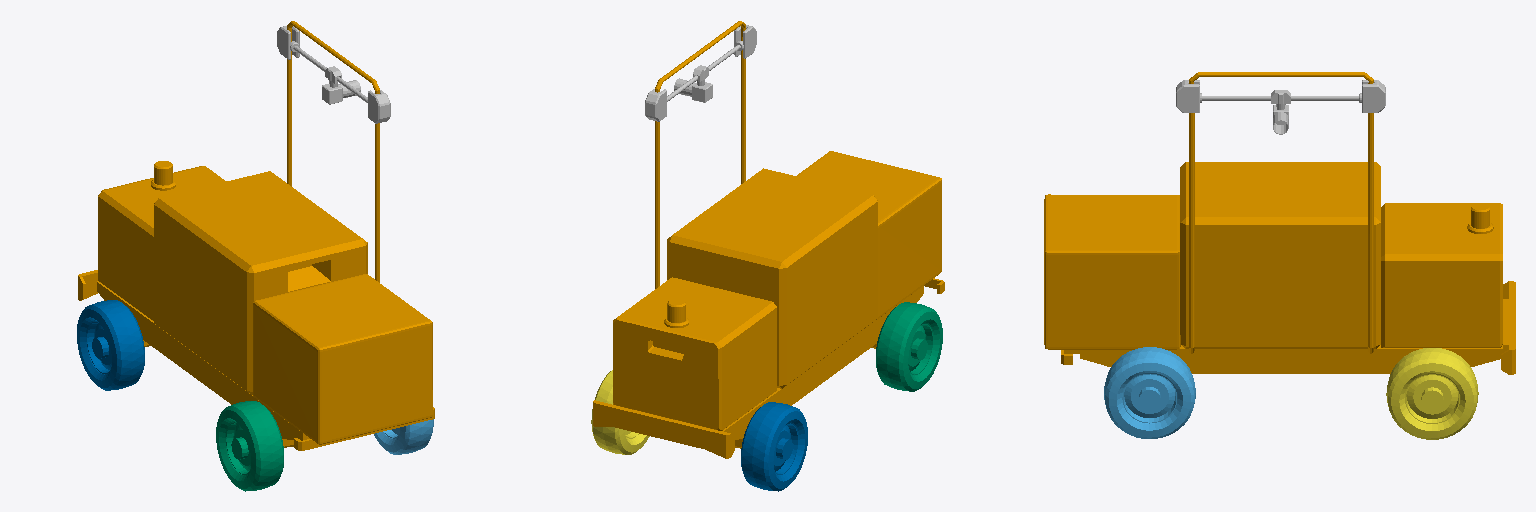
The robot description file, URDF, robot "apple_kraken":
<?xml version="1.0" ?>
<!-- =================================================================================== -->
<!-- |    This document was autogenerated by xacro from [local-path]/ros2_ws/src/apple_kraken_description/urdf/apple_kraken.xacro | -->
<!-- |    EDITING THIS FILE BY HAND IS NOT RECOMMENDED                                 | -->
<!-- =================================================================================== -->
<robot name="apple_kraken">
  <!-- RVIZ MATERIAL COLOUR -->
  <material name="darkgrey">
    <color rgba="0.25 0.25 0.25 0.8"/>
  </material>
  <material name="lightgrey">
    <color rgba="0.8 0.8 0.8 1.0"/>
  </material>
  <!-- ROBOT DEFINITION -->
  <!-- Including base_footprint here will make it easier to integrate with navigation stack -->

  <link name="base_link">
    <inertial>
      <origin rpy="0 0 0" xyz="0.001190 -0.123937 0.989950"/>
      <!-- TODO: Update mass as volume from Meshlab will overestimate the mass -->
      <mass value="300"/>
      <inertia ixx="240.0" ixy="0.0" ixz="0.0" iyy="50.0" iyz="0.0" izz="250.0"/>
    </inertial>
    <visual>
      <origin rpy="0 0 0" xyz="0 0 0"/>
      <geometry>
        <mesh filename="package://meshes/Chasis.dae" scale="1 1 1"/>
      </geometry>
    </visual>
    <collision>
      <origin rpy="0 0 0" xyz="0 0 1"/>
      <geometry>
        <box size="1 1 1"/>
      </geometry>
    </collision>
  </link>
  <link name="wheel_rear_right_link">
    <inertial>
      <origin rpy="0 0 0" xyz="0.039106 0.0 -0.000376"/>
      <mass value="24.5"/>
      <inertia ixx="1.309" ixy="0.0" ixz="0.0" iyy="0.787" iyz="0.0" izz="0.787"/>
    </inertial>
    <visual>
      <origin rpy="0 0 0" xyz="0 0 0"/>
      <geometry>
        <mesh filename="package://meshes/WheelRight.dae" scale="1 1 1"/>
      </geometry>
    </visual>
    <collision>
      <origin rpy="0 0 0" xyz="0 0 0"/>
      <geometry>
        <mesh filename="package://meshes/WheelRight.dae" scale="1 1 1"/>
      </geometry>
    </collision>
  </link>
  <link name="wheel_rear_left_link">
    <inertial>
      <origin rpy="0 0 0" xyz="-0.039106 0.0 -0.000376"/>
      <mass value="24.5"/>
      <inertia ixx="1.309" ixy="0.0" ixz="0.0" iyy="0.787" iyz="0.0" izz="0.787"/>
    </inertial>
    <visual>
      <origin rpy="0 0 0" xyz="0 0 0"/>
      <geometry>
        <mesh filename="package://meshes/WheelLeft.dae" scale="1 1 1"/>
      </geometry>
    </visual>
    <collision>
      <origin rpy="0 0 0" xyz="0 0 0"/>
      <geometry>
        <mesh filename="package://meshes/WheelLeft.dae" scale="1 1 1"/>
      </geometry>
    </collision>
  </link>
  <link name="wheel_front_right_link">
    <inertial>
      <origin rpy="0 0 0" xyz="0.039106 0.0 -0.000376"/>
      <mass value="24.5"/>
      <inertia ixx="1.309" ixy="0.0" ixz="0.0" iyy="0.787" iyz="0.0" izz="0.787"/>
    </inertial>
    <visual>
      <origin rpy="0 0 0" xyz="0 0 0"/>
      <geometry>
        <mesh filename="package://meshes/WheelRight.dae" scale="1 1 1"/>
      </geometry>
    </visual>
    <collision>
      <origin rpy="0 0 0" xyz="0 0 0"/>
      <geometry>
        <mesh filename="package://meshes/WheelRight.dae" scale="1 1 1"/>
      </geometry>
    </collision>
  </link>
  <link name="wheel_front_left_link">
    <inertial>
      <origin rpy="0 0 0" xyz="-0.039106 0.0 -0.000376"/>
      <mass value="24.5"/>
      <inertia ixx="1.309" ixy="0.0" ixz="0.0" iyy="0.787" iyz="0.0" izz="0.787"/>
    </inertial>
    <visual>
      <origin rpy="0 0 0" xyz="0 0 0"/>
      <geometry>
        <mesh filename="package://meshes/WheelLeft.dae" scale="1 1 1"/>
      </geometry>
    </visual>
    <collision>
      <origin rpy="0 0 0" xyz="0 0 0"/>
      <geometry>
        <mesh filename="package://meshes/WheelLeft.dae" scale="1 1 1"/>
      </geometry>
    </collision>
  </link>
  <link name="vacuum_mechanism_link">
    <inertial>
      <origin rpy="0 0 0" xyz="0.0 0.0 0.0"/>
      <mass value="25.0"/>
      <inertia ixx="0.068" ixy="0.0" ixz="0.0" iyy="0.002" iyz="0.0" izz="0.067"/>
    </inertial>
    <visual>
      <origin rpy="0 0 0" xyz="-0.61022 0.073057 -1.9705"/>
      <geometry>
        <mesh filename="package://meshes/vacuum_mechanism.stl" scale="1 1 1"/>
      </geometry>
      <material name="lightgrey"/>
    </visual>
    <collision>
      <origin rpy="0 0 0" xyz="-0.61022 0.073057 -1.9705"/>
      <geometry>
        <mesh filename="package://meshes/vacuum_mechanism.stl" scale="1 1 1"/>
      </geometry>
    </collision>
  </link>
  <!-- TODO: Add update steering links with right values of interial. -->
  <link name="steering_front_right_link">
    <inertial>
      <origin rpy="0 0 0" xyz="0 0 0"/>
      <mass value="1"/>
      <inertia ixx="0.003514" ixy="0.0" ixz="0.0" iyy="0.001981" iyz="0.0" izz="0.001981"/>
    </inertial>
  </link>
  <link name="steering_front_left_link">
    <inertial>
      <origin rpy="0 0 0" xyz="0 0 0"/>
      <mass value="1"/>
      <inertia ixx="0.003514" ixy="0.0" ixz="0.0" iyy="0.001981" iyz="0.0" izz="0.001981"/>
    </inertial>
  </link>
  <joint name="wheel_rear_right_joint" type="continuous">
    <origin rpy="0 0 0" xyz="0.587966 -1.0 0.324065"/>
    <parent link="base_link"/>
    <child link="wheel_rear_right_link"/>
    <axis xyz="-1.0 0.0 0.0"/>
  </joint>
  <joint name="wheel_rear_left_joint" type="continuous">
    <origin rpy="0 0 0" xyz="-0.587966 -1.0 0.324065"/>
    <parent link="base_link"/>
    <child link="wheel_rear_left_link"/>
    <axis xyz="-1.0 0.0 0.0"/>
  </joint>
  <joint name="wheel_front_right_joint" type="continuous">
    <origin rpy="0 0 0" xyz="0.06 0.0 0.0"/>
    <parent link="steering_front_right_link"/>
    <child link="wheel_front_right_link"/>
    <axis xyz="-1.0 0.0 0.0"/>
  </joint>
  <joint name="wheel_front_left_joint" type="continuous">
    <origin rpy="0 0 0" xyz="-0.06 0.0 0.0"/>
    <parent link="steering_front_left_link"/>
    <child link="wheel_front_left_link"/>
    <axis xyz="-1.0 0.0 0.0"/>
  </joint>
  <joint name="steering_front_right_joint" type="revolute">
    <origin rpy="0 0 0" xyz="0.537966 1.0 0.324065"/>
    <parent link="base_link"/>
    <child link="steering_front_right_link"/>
    <axis xyz="0.0 0.0 1.0"/>
    <dynamics damping="2.0" friction="1.0"/>
    <limit effort="1000.0" lower="-0.95" upper="0.95" velocity="100"/>
  </joint>
  <joint name="steering_front_left_joint" type="revolute">
    <origin rpy="0 0 0" xyz="-0.537966 1.0 0.324065"/>
    <parent link="base_link"/>
    <child link="steering_front_left_link"/>
    <axis xyz="0.0 0.0 1.0"/>
    <dynamics damping="2.0" friction="1.0"/>
    <limit effort="1000.0" lower="-0.95" upper="0.95" velocity="100"/>
  </joint>
  <!-- TODO(YV): Switch to primatic joint with some basic controller -->
  <joint name="vacuum_mechanism_joint" type="fixed">
    <origin rpy="0 0 0" xyz="0.61022 -0.073057 2.6205"/>
    <parent link="base_link"/>
    <child link="vacuum_mechanism_link"/>
    <axis xyz="0.0 0.0 1.0"/>
    <dynamics damping="2.0" friction="1.0"/>
    <limit effort="1000.0" lower="-1.8" upper="0.0" velocity="1.0"/>
  </joint>
  <gazebo reference="base_link">
    <mu1>0.2</mu1>
    <mu2>0.2</mu2>
    <selfCollide>true</selfCollide>
    <gravity>true</gravity>
  </gazebo>
  <gazebo reference="wheel_rear_right_link">
    <mu1>1.7</mu1>
    <mu2>1.7</mu2>
    <kp>10000000.0</kp>
    <kd>1.0</kd>
    <selfCollide>true</selfCollide>
  </gazebo>
  <gazebo reference="wheel_rear_left_link">
    <mu1>1.7</mu1>
    <mu2>1.7</mu2>
    <kp>10000000.0</kp>
    <kd>1.0</kd>
    <selfCollide>true</selfCollide>
  </gazebo>
  <gazebo reference="wheel_front_right_link">
    <mu1>1.7</mu1>
    <mu2>1.7</mu2>
    <kp>10000000.0</kp>
    <kd>1.0</kd>
    <selfCollide>true</selfCollide>
  </gazebo>
  <gazebo reference="wheel_front_left_link">
    <mu1>1.1</mu1>
    <mu2>1.1</mu2>
    <kp>10000000.0</kp>
    <kd>1.0</kd>
    <selfCollide>true</selfCollide>
  </gazebo>
  <gazebo reference="steering_front_right_link">
    <mu1>0.2</mu1>
    <mu2>0.2</mu2>
    <selfCollide>true</selfCollide>
  </gazebo>
  <gazebo reference="steering_front_left_link">
    <mu1>0.2</mu1>
    <mu2>0.2</mu2>
    <selfCollide>true</selfCollide>
  </gazebo>
  <gazebo reference="vacuum_steering_link">
    <material>Gazebo/DarkGrey</material>
    <mu1>1.1</mu1>
    <mu2>1.1</mu2>
    <kp>10000000.0</kp>
    <kd>1.0</kd>
    <selfCollide>true</selfCollide>
  </gazebo>
  <gazebo>
    <plugin filename="libgazebo_ros_ackermann_drive.so" name="ackermann_drive">
      <update_rate>20.0</update_rate>
      <!-- wheels -->
      <front_left_joint>wheel_front_left_joint</front_left_joint>
      <front_right_joint>wheel_front_right_joint</front_right_joint>
      <rear_left_joint>wheel_rear_left_joint</rear_left_joint>
      <rear_right_joint>wheel_rear_right_joint</rear_right_joint>
      <left_steering_joint>steering_front_left_joint</left_steering_joint>
      <right_steering_joint>steering_front_right_joint</right_steering_joint>
      <!-- <steering_wheel_joint>steering_wheel_joint</steering_wheel_joint> -->
      <!-- Max absolute steer angle for tyre in radians-->
      <!-- Any cmd_vel angular z greater than this would be capped -->
      <max_steer>0.6458</max_steer>
      <!-- Max absolute steering angle of steering wheel -->
      <max_steering_angle>7.85</max_steering_angle>
      <!-- Max absolute linear speed in m/s -->
      <max_speed>30</max_speed>
      <!-- PID tuning -->
      <left_steering_pid_gain>1500 0 1</left_steering_pid_gain>
      <left_steering_i_range>0 0</left_steering_i_range>
      <right_steering_pid_gain>1500 0 1</right_steering_pid_gain>
      <right_steering_i_range>0 0</right_steering_i_range>
      <linear_velocity_pid_gain>1000 0 1</linear_velocity_pid_gain>
      <linear_velocity_i_range>0 0</linear_velocity_i_range>
      <!-- output -->
      <publish_odom>true</publish_odom>
      <publish_odom_tf>true</publish_odom_tf>
      <publish_wheel_tf>true</publish_wheel_tf>
      <publish_distance>true</publish_distance>
      <odometry_frame>odom</odometry_frame>
      <robot_base_frame>base_link</robot_base_frame>
    </plugin>
  </gazebo>
</robot>

--- Render facts (derived) ---
The picture shows the robot from 3 angles, left to right: view 1: azimuth 30°, elevation 25°; view 2: azimuth 150°, elevation 25°; view 3: azimuth 270°, elevation 25°; orthographic projection.
Robot: apple_kraken — 8 links, 7 joints (2 revolute, 4 continuous, 1 fixed); root link base_link; default pose: all joints at 0.
Visible links, largest first — view 1: base_link, wheel_front_left_link, wheel_rear_left_link, vacuum_mechanism_link, wheel_rear_right_link; view 2: base_link, wheel_front_left_link, wheel_rear_left_link, vacuum_mechanism_link, wheel_front_right_link; view 3: base_link, wheel_rear_right_link, wheel_front_right_link, vacuum_mechanism_link.
Link boxes in pixels (left/top/right/bottom): base_link: left=78, top=21, right=434, bottom=450; wheel_front_left_link: left=77, top=300, right=144, bottom=390; wheel_rear_left_link: left=216, top=401, right=283, bottom=491; vacuum_mechanism_link: left=277, top=26, right=390, bottom=123; wheel_rear_right_link: left=374, top=419, right=433, bottom=454; base_link: left=593, top=21, right=944, bottom=458; wheel_front_left_link: left=741, top=402, right=807, bottom=491; wheel_rear_left_link: left=876, top=302, right=942, bottom=391; vacuum_mechanism_link: left=645, top=25, right=756, bottom=121; wheel_front_right_link: left=591, top=370, right=649, bottom=454; base_link: left=1044, top=72, right=1515, bottom=374; wheel_rear_right_link: left=1104, top=347, right=1195, bottom=438; wheel_front_right_link: left=1386, top=348, right=1478, bottom=439; vacuum_mechanism_link: left=1176, top=80, right=1385, bottom=134.
Size in the robot's own frame: 1.57 by 3.33 by 2.82 metres.
6 mesh visuals loaded from 4 distinct referenced files (1 binary STL, 3 Collada DAE).
